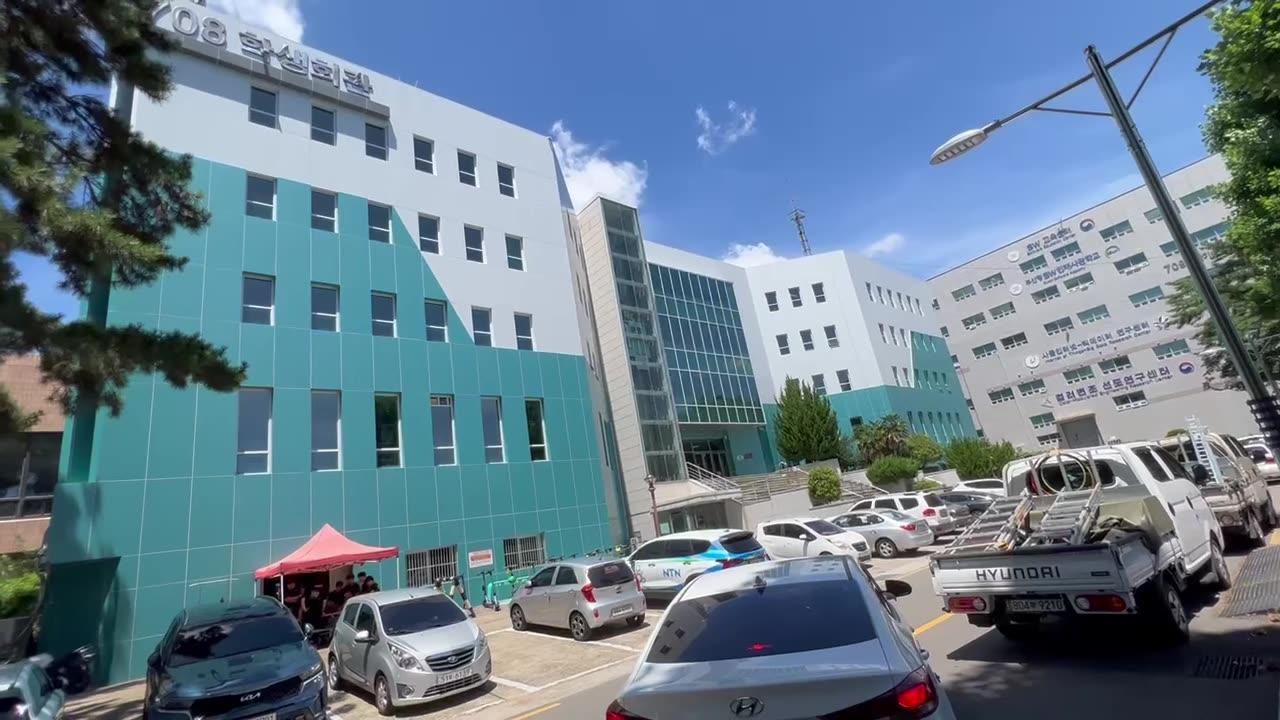building: (176, 20, 972, 462)
